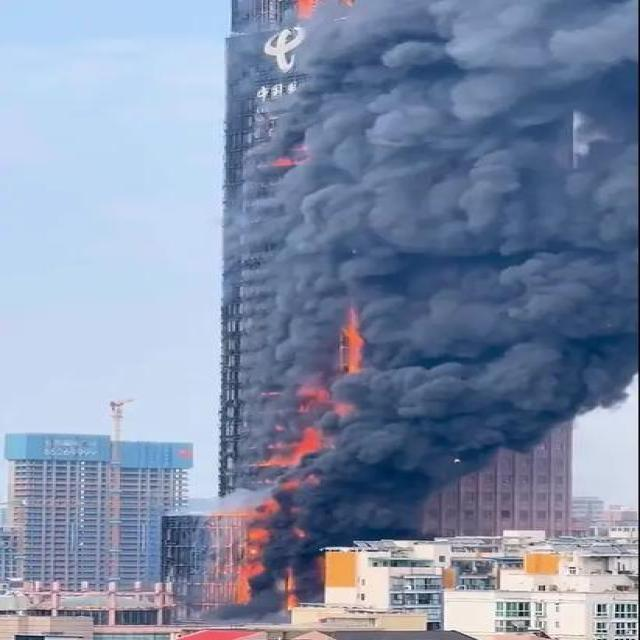Smoke: (264, 0, 640, 529)
